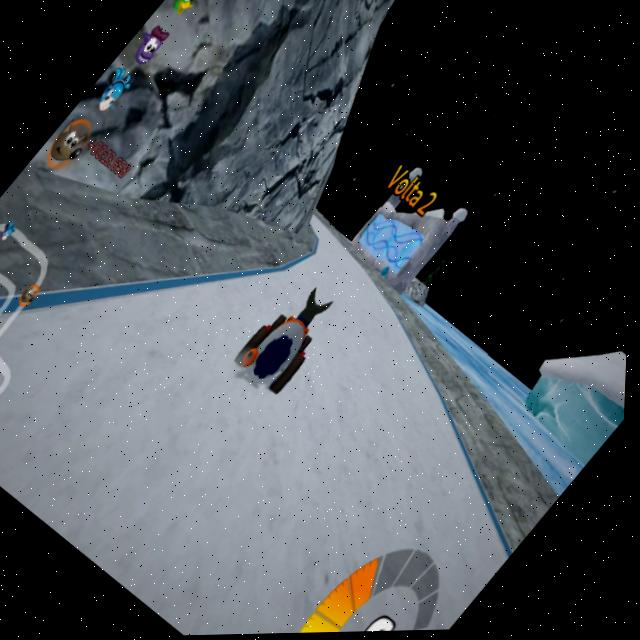off_track: (389, 276, 616, 480)
player_kart: (224, 279, 350, 413)
track: (296, 234, 397, 326)
